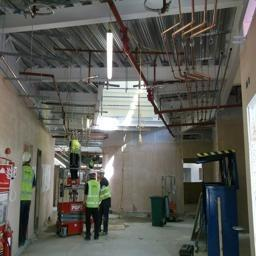hat: (19, 148, 37, 165), (96, 165, 110, 183), (87, 169, 99, 182)
vest: (20, 164, 35, 211), (86, 181, 101, 216), (100, 178, 115, 211), (67, 141, 84, 160)
